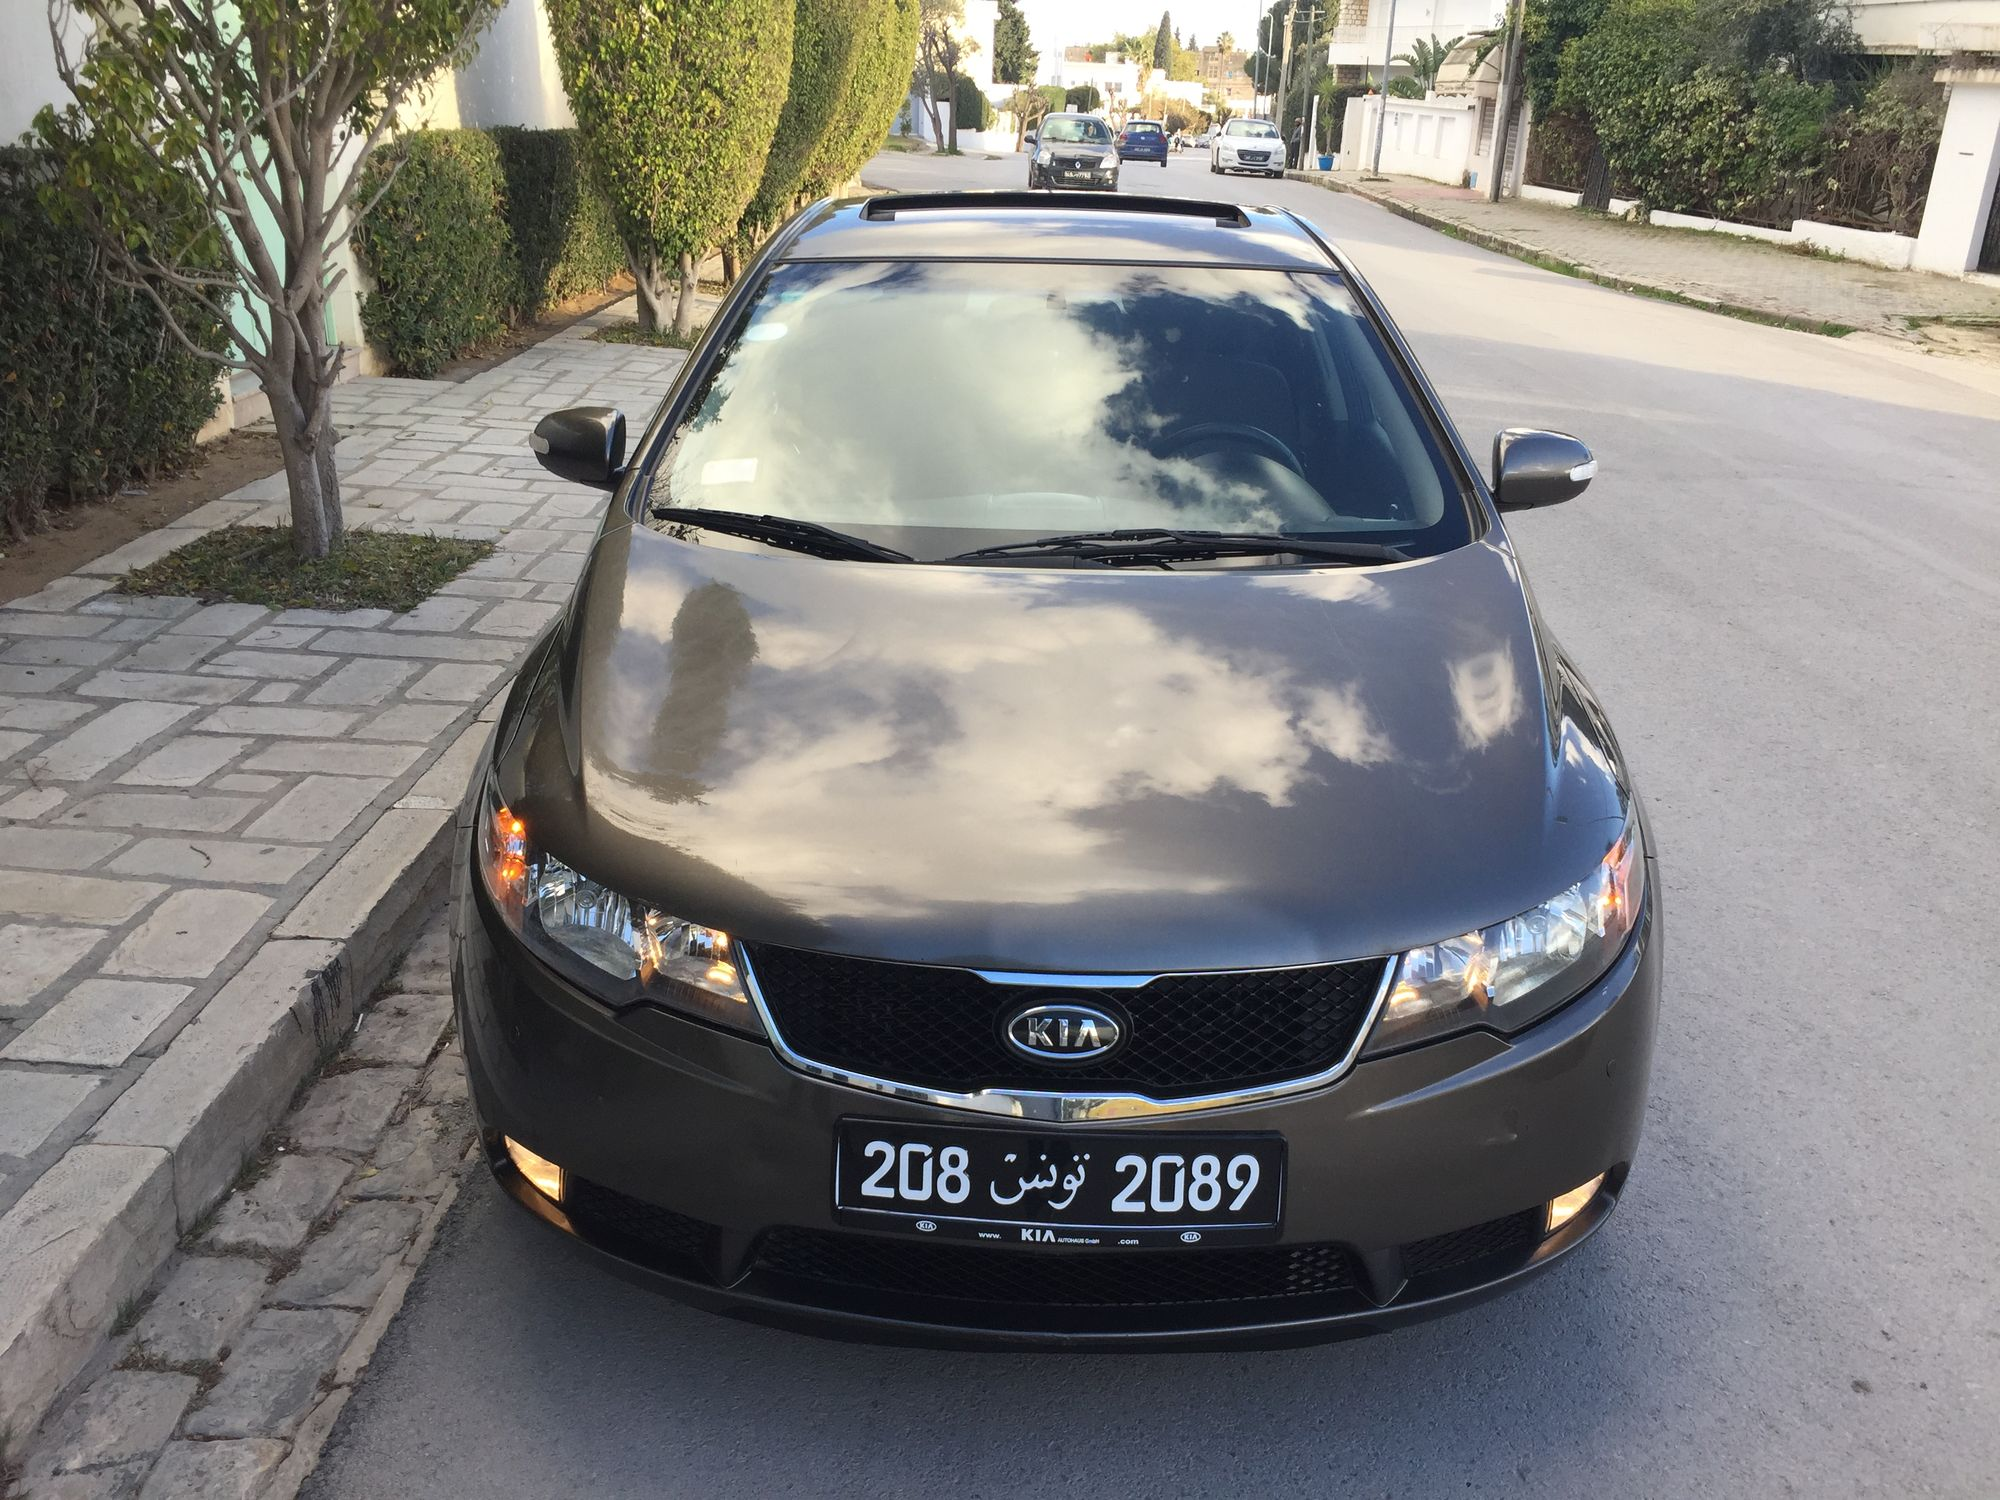LP: (837, 1121, 1282, 1229)
